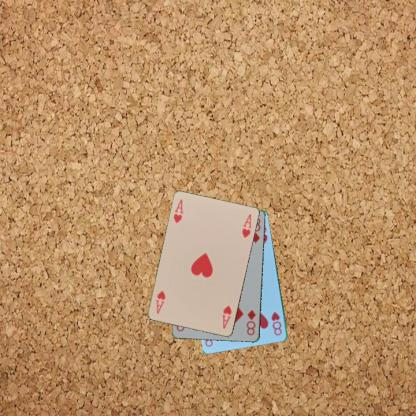8d: (244, 307, 257, 337)
8h: (269, 309, 283, 337)
Ah: (171, 197, 185, 225), (219, 303, 233, 330)
